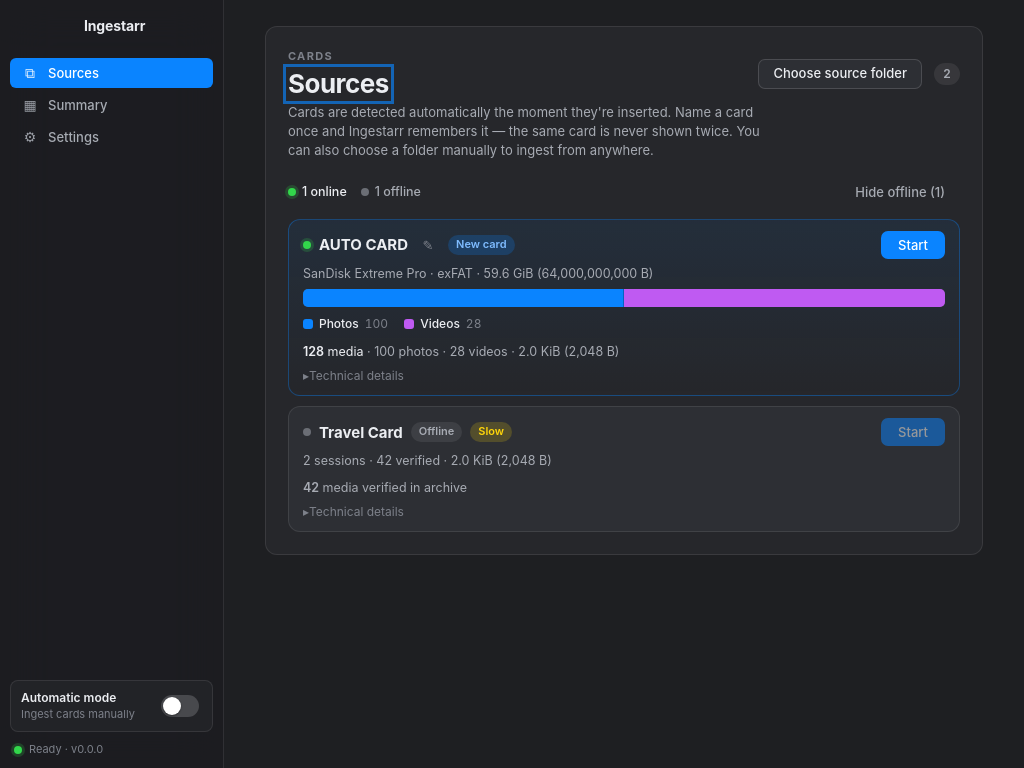
Test: manual folder ingest flow › explains why Start ingest is disabled while source identity confirmation is pending
Step 1. Click the button "Choose source folder" → {"x": 840, "y": 74}, box [758,59,922,89]
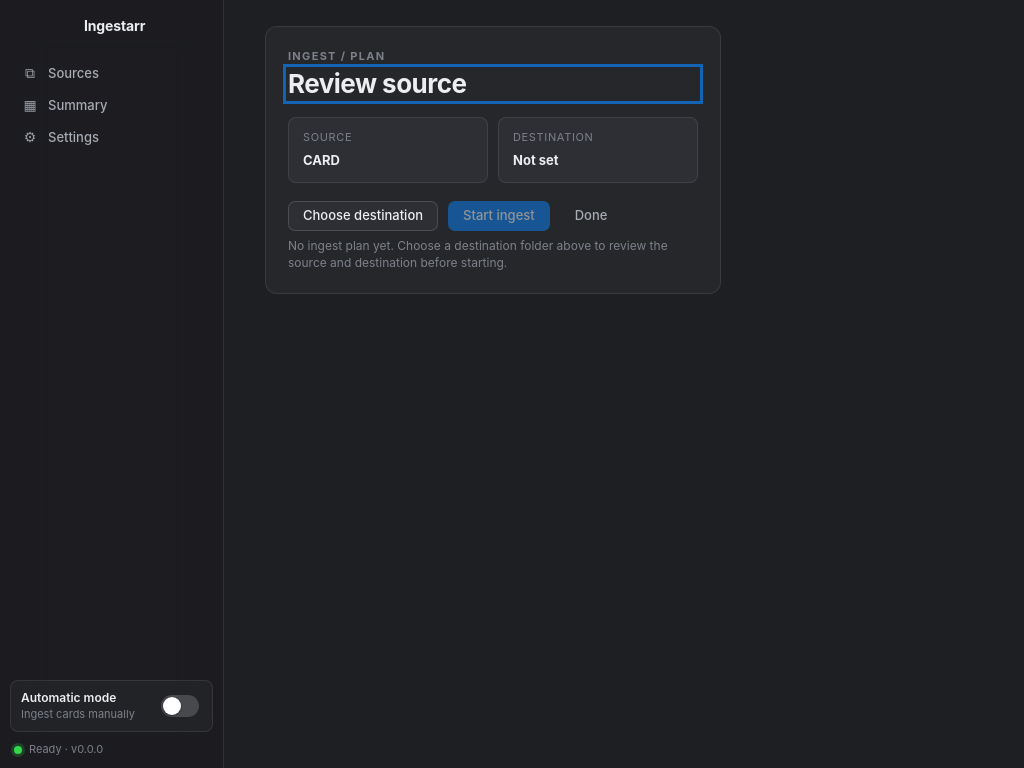
Step 2. Click the button "Choose destination" → {"x": 363, "y": 216}, box [288,201,438,231]
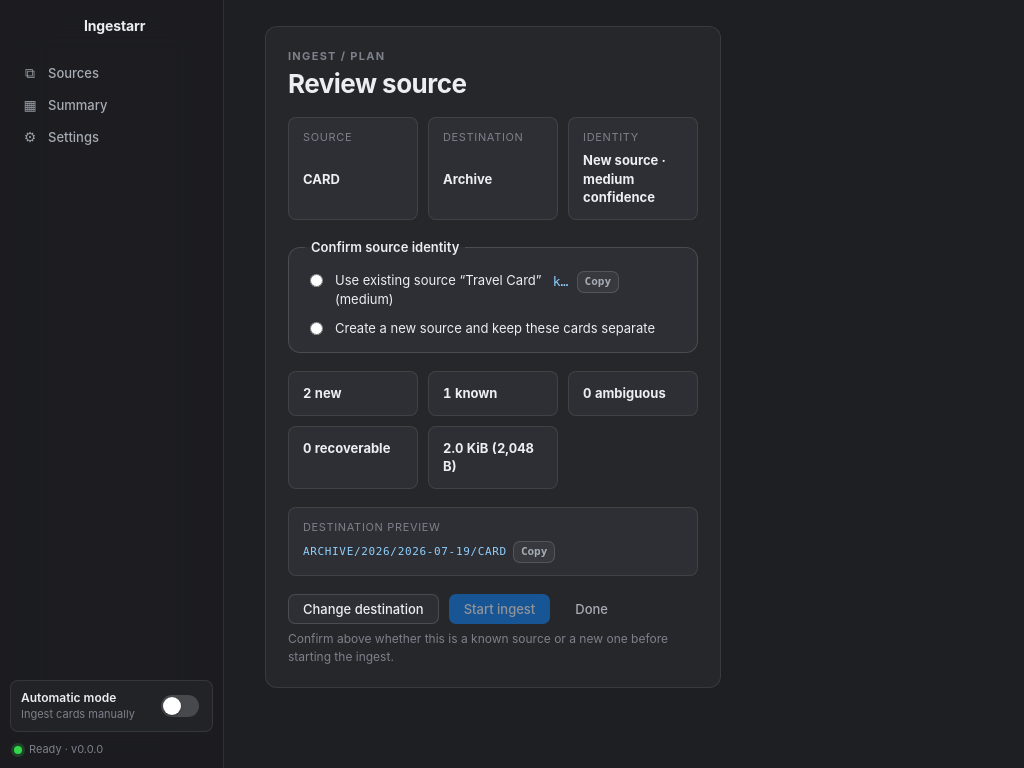
Now the button "Start ingest" is disabled, box [449,594,550,624]
Step 3. Click the radio button labelled "Create a new source and keep these cards separate" → {"x": 316, "y": 328}, box [310,322,323,335]
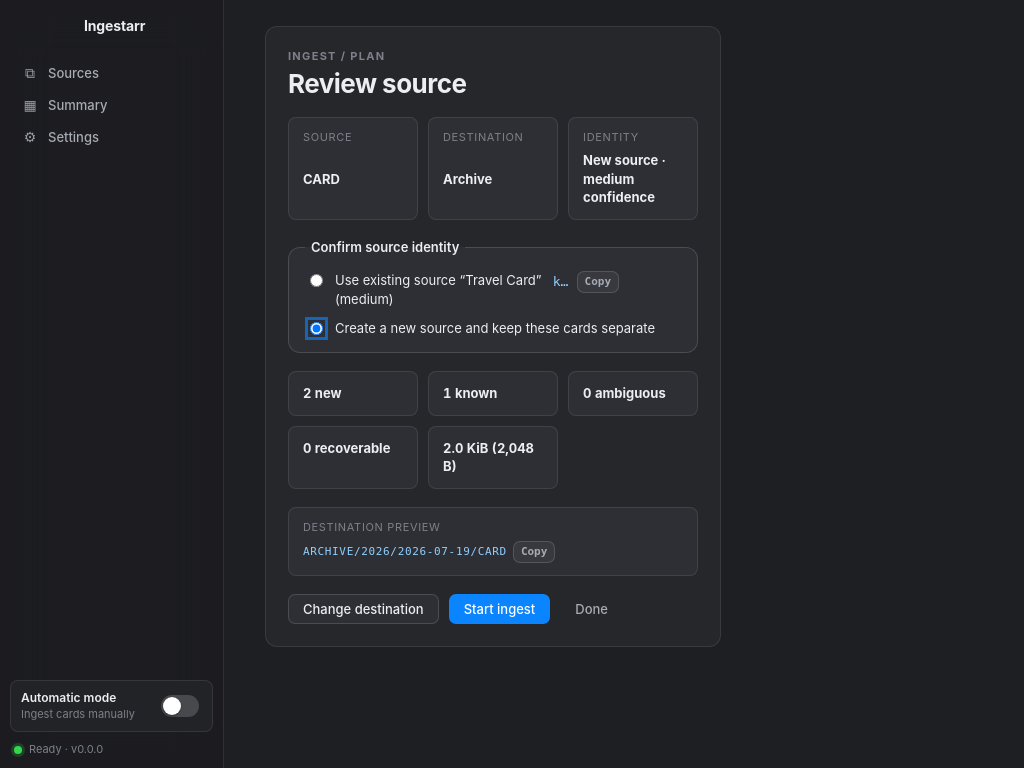
Now the button "Start ingest" is enabled, box [449,594,550,624]
Now the text "Confirm above whether" is gone
